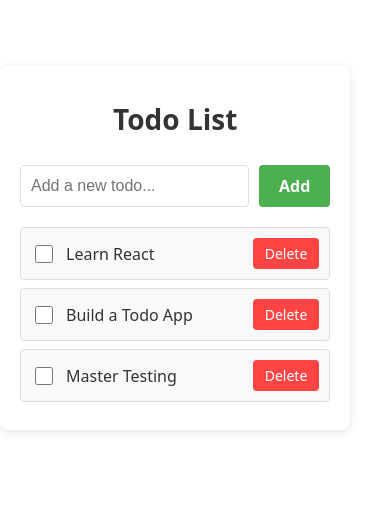
Test: TodoList Component › Adding Todos › can add multiple todos sequentially
Type "First todo" into the field with test id "todo-input" at (134, 186), box [20,165,249,207]
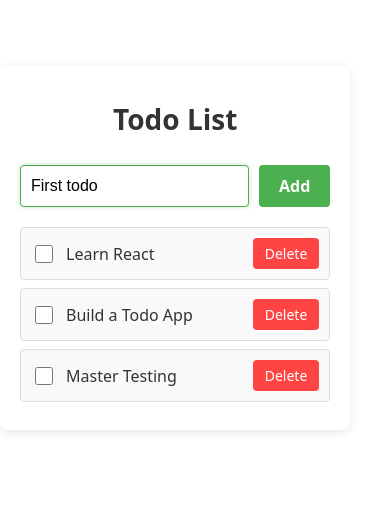
Click the button with test id "add-button" at (295, 186), box [259,165,330,207]
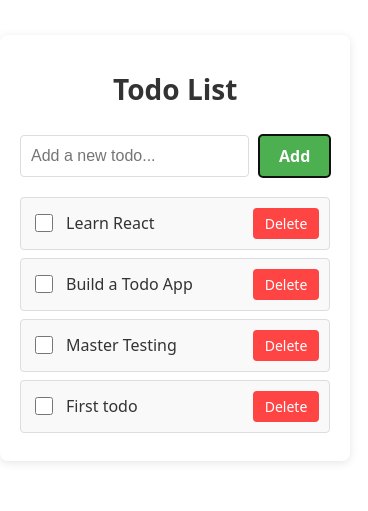
Type "Second todo" into the field with test id "todo-input" at (134, 156), box [20,135,249,177]
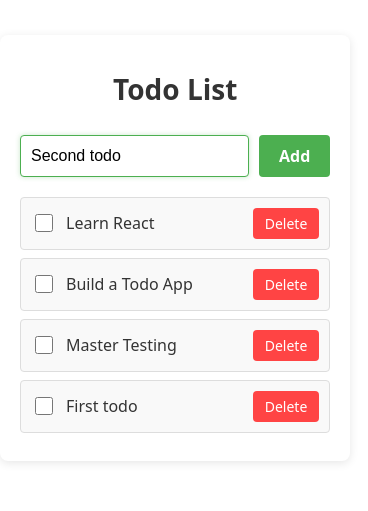
Click the button with test id "add-button" at (295, 156), box [259,135,330,177]
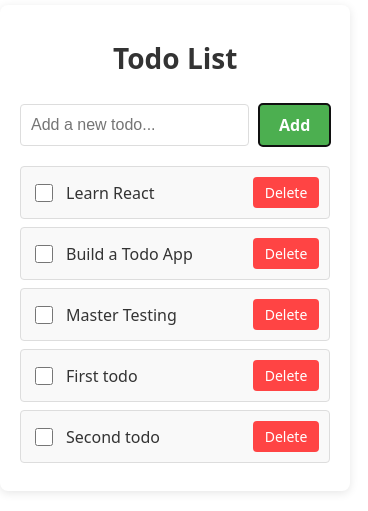
Check: the text "First todo" is shown, box [66,365,138,387]
Check: the text "Second todo" is shown, box [66,426,160,448]
Check: the number of checkboxes is 5, box [35,184,53,202]; [35,245,53,263]; [35,306,53,324]; [35,367,53,385]; [35,428,53,446]
